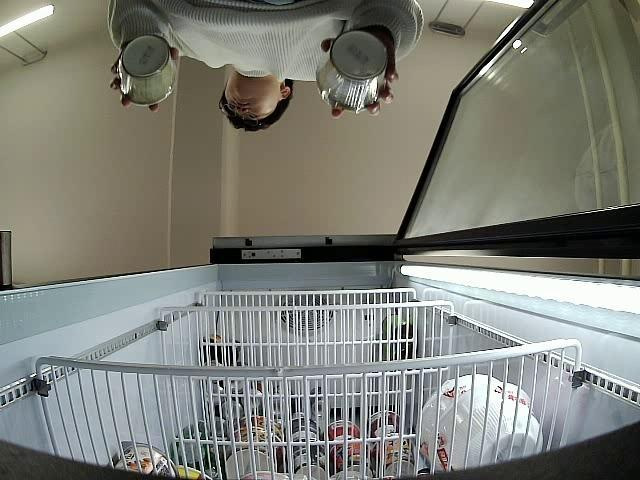04_chapagetti_S: (318, 32, 390, 106), (116, 37, 176, 100)
